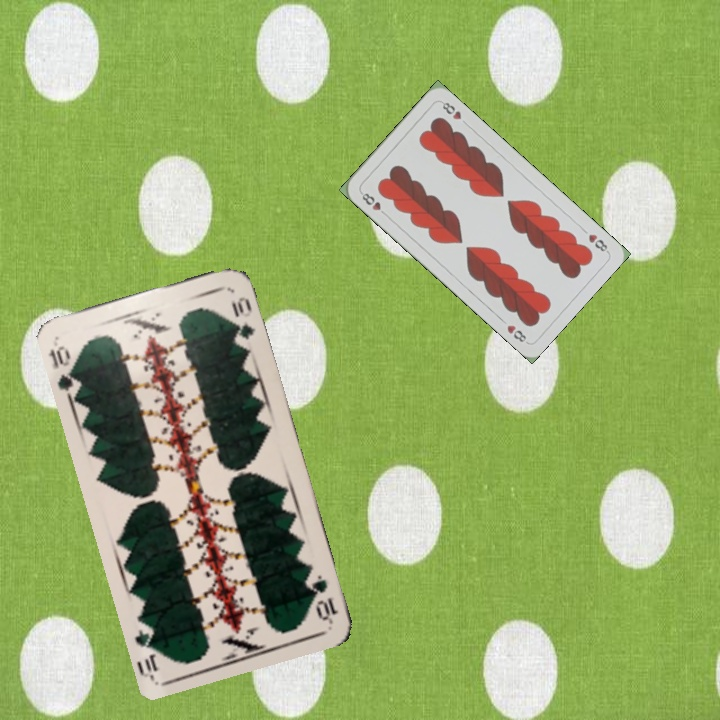G10: (45, 341, 84, 398), (307, 571, 341, 624)
H8: (357, 188, 390, 219), (584, 230, 611, 255)
